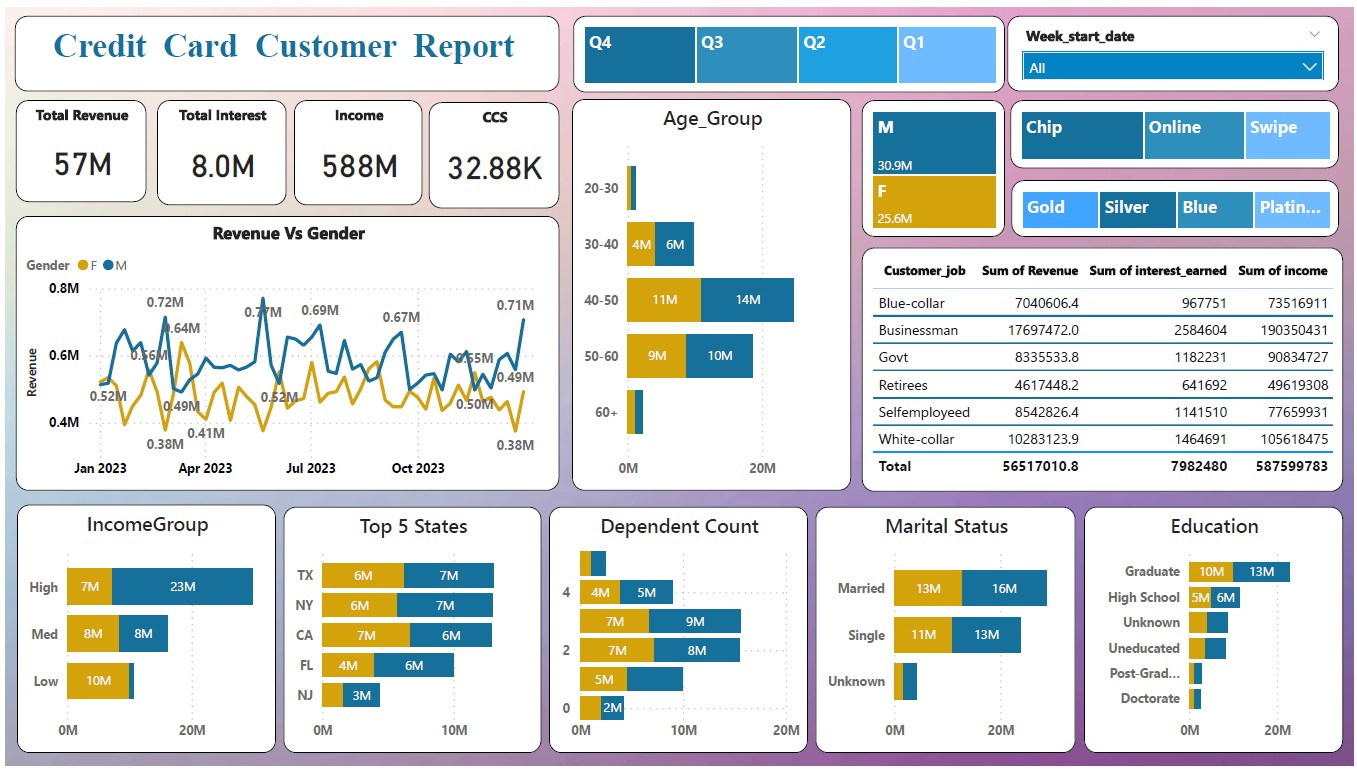

What the dashboard file says about the page in this screenshot:
{"tool":"powerbi","page":{"name":"Credit_Card_Customer_Report","canvas":[1280,720],"ordinal":2},"visuals":[{"type":"textbox","box":[9.3,8.1,516.3,72.1],"z":0},{"type":"card","title":"Total Revenue","fields":{"Values":["Sum(public cc_detail.Revenue)"]},"box":[9.9,87.7,124.5,97.6],"z":1000},{"type":"card","title":"Total Interest","fields":{"Values":["Sum(public cc_detail.interest_earned)"]},"box":[144.3,87.7,123.1,100.4],"z":2000},{"type":"card","title":"Income","fields":{"Values":["Sum(public cust_detail.income)"]},"box":[274.4,87.7,121.7,100.4],"z":3000},{"type":"card","title":"CCS","fields":{"Values":["Sum(public cust_detail.cust_satisfaction_score)"]},"box":[402.3,89.5,123.3,101.2],"z":4000},{"type":"treemap","fields":{"Group":["public cc_detail.qtr"],"Values":["Avg(public cc_detail.client_num)"]},"box":[538.9,8.5,410.2,72.1],"z":5000},{"type":"slicer","fields":{"Values":["public cc_detail.week_start_date"]},"box":[951.2,8.3,314.8,71.8],"z":6000},{"type":"treemap","fields":{"Values":["Avg(public cc_detail.Revenue)"],"Group":["public cc_detail.use_chip"]},"box":[953.9,88.4,312,64.9],"z":7000},{"type":"treemap","fields":{"Group":["public cc_detail.card_category"],"Values":["Avg(public cc_detail.client_num)"]},"box":[955.3,164.3,310.6,53.8],"z":8000},{"type":"lineChart","title":"Revenue Vs Gender","fields":{"Y":["Sum(public cc_detail.Revenue)"],"Series":["public cust_detail.gender"],"Category":["public cc_detail.week_start_date.Variation.Date Hierarchy.Year","public cc_detail.week_start_date.Variation.Date Hierarchy.Month","public cc_detail.week_start_date.Variation.Date Hierarchy.Day"]},"box":[10.5,197.7,515.1,261.6],"z":9000},{"type":"treemap","fields":{"Group":["public cust_detail.gender"],"Values":["Sum(public cc_detail.Revenue)"]},"box":[813.4,87.7,135.8,130.1],"z":10000},{"type":"barChart","title":" IncomeGroup","fields":{"Category":["public cust_detail.IncomeGroup"],"Y":["Sum(public cc_detail.Revenue)"],"Series":["public cust_detail.gender"]},"box":[11,472.1,245.7,236.1],"z":11000},{"type":"barChart","title":"Age_Group","fields":{"Y":["Sum(public cc_detail.Revenue)"],"Category":["public cust_detail.AgeGroup"],"Series":["public cust_detail.gender"]},"box":[538.4,87.2,265.1,372.1],"z":12000},{"type":"barChart","title":"Dependent Count","fields":{"Y":["Sum(public cc_detail.Revenue)"],"Category":["public cust_detail.dependent_count"],"Series":["public cust_detail.gender"]},"box":[516.3,473.5,245.7,234.7],"z":13000},{"type":"barChart","title":"Marital Status","fields":{"Y":["Sum(public cc_detail.Revenue)"],"Category":["public cust_detail.marital_status"],"Series":["public cust_detail.gender"]},"box":[768.9,473.5,247.1,234.7],"z":14000},{"type":"barChart","title":"Education","fields":{"Y":["Sum(public cc_detail.Revenue)"],"Category":["public cust_detail.education_level"],"Series":["public cust_detail.gender"]},"box":[1024.3,473.5,245.7,234.7],"z":15000},{"type":"barChart","title":"Top 5 States","fields":{"Y":["Sum(public cc_detail.Revenue)"],"Category":["public cust_detail.state_cd"],"Series":["public cust_detail.gender"]},"box":[263.7,473.5,245.7,234.7],"z":16000},{"type":"tableEx","fields":{"Values":["public cust_detail.customer_job","Sum(public cc_detail.Revenue)","Sum(public cc_detail.interest_earned)","Sum(public cust_detail.income)"]},"box":[813.4,227.7,456.9,232],"z":17000}]}

Visuals, with their boxes in screenshot pixels (x1, y1, x2, y2), scaled from the page's 1280x720 canvas onto the 1357x771 screenshot:
textbox: l=10, t=9, r=557, b=86
"Total Revenue" card: l=10, t=94, r=142, b=198
"Total Interest" card: l=153, t=94, r=283, b=201
"Income" card: l=291, t=94, r=420, b=201
"CCS" card: l=427, t=96, r=557, b=204
treemap - public cc_detail.qtr x Avg(public cc_detail.client_num): l=571, t=9, r=1006, b=86
slicer - public cc_detail.week_start_date: l=1008, t=9, r=1342, b=86
treemap - Avg(public cc_detail.Revenue) x public cc_detail.use_chip: l=1011, t=95, r=1342, b=164
treemap - public cc_detail.card_category x Avg(public cc_detail.client_num): l=1013, t=176, r=1342, b=234
"Revenue Vs Gender" lineChart: l=11, t=212, r=557, b=492
treemap - public cust_detail.gender x Sum(public cc_detail.Revenue): l=862, t=94, r=1006, b=233
" IncomeGroup" barChart: l=12, t=506, r=272, b=758
"Age_Group" barChart: l=571, t=93, r=852, b=492
"Dependent Count" barChart: l=547, t=507, r=808, b=758
"Marital Status" barChart: l=815, t=507, r=1077, b=758
"Education" barChart: l=1086, t=507, r=1346, b=758
"Top 5 States" barChart: l=280, t=507, r=540, b=758
tableEx - public cust_detail.customer_job x Sum(public cc_detail.Revenue): l=862, t=244, r=1347, b=492
